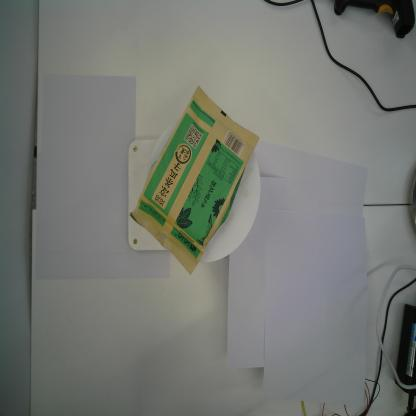Dried Food: (128, 84, 261, 278)
